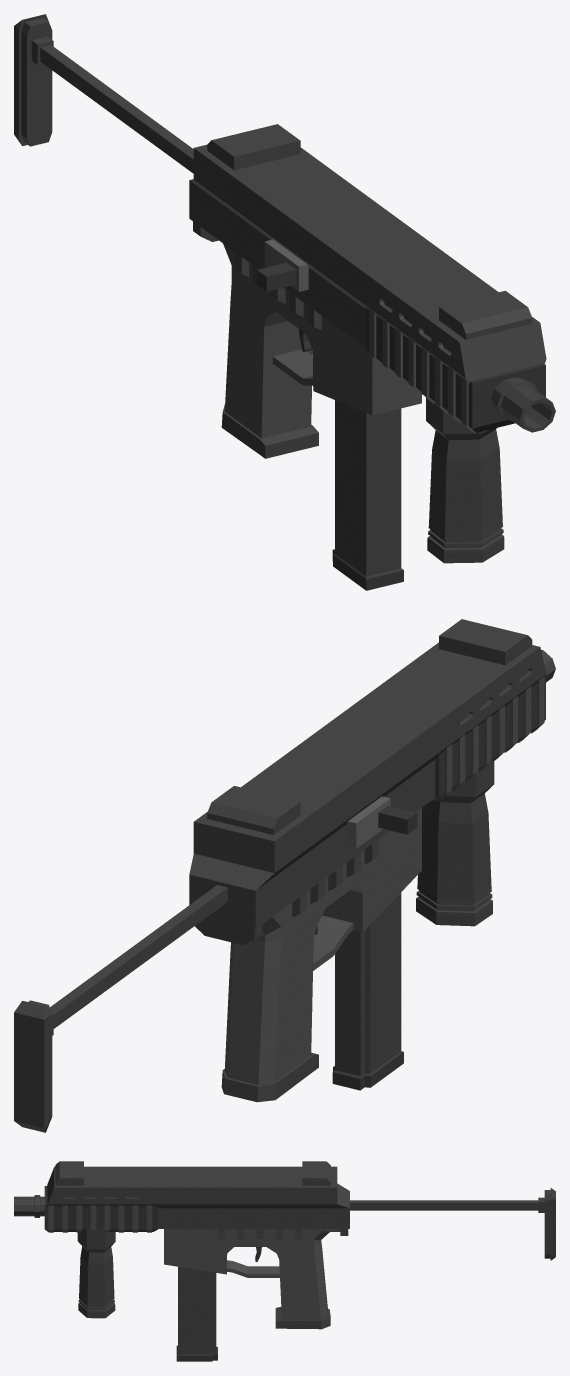
File: smg.glb
3 renders of one model, top to bottom at view 1: azimuth 30°, elevation 25°; view 2: azimuth 150°, elevation 25°; view 3: azimuth 270°, elevation 25°, orthographic. The views are drawn at different scales.
Visible parts, largest first — view 1: part_body, part_magazine, part_bolt; view 2: part_body, part_magazine, part_bolt; view 3: part_body, part_magazine.
Part boxes in pixels (box(x1,y1,x2,y2)): part_body: box(14, 14, 555, 563); part_magazine: box(332, 400, 403, 590); part_bolt: box(257, 239, 308, 291); part_body: box(14, 619, 555, 1132); part_magazine: box(332, 892, 403, 1090); part_bolt: box(346, 796, 417, 848); part_body: box(14, 1161, 555, 1329); part_magazine: box(176, 1266, 217, 1361).
Bounding box in the file's own units: 0.1711 × 0.4966 × 1.3.
Materials: 5 (5 with a texture image).
